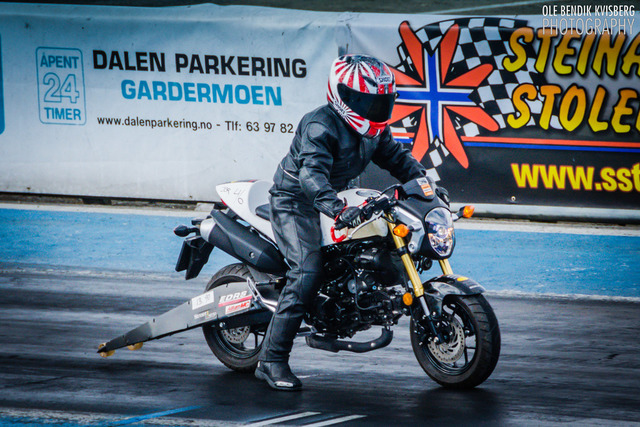helmet: (322, 51, 404, 141)
